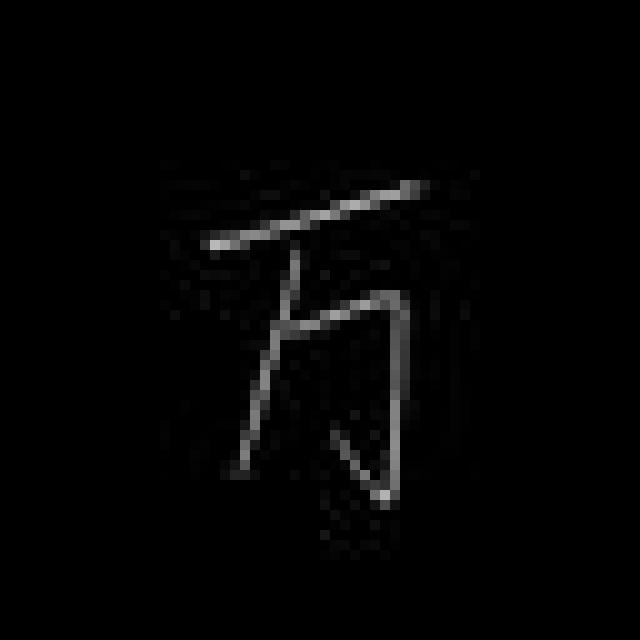10000 -a ten thousand-: (198, 161, 427, 529)
